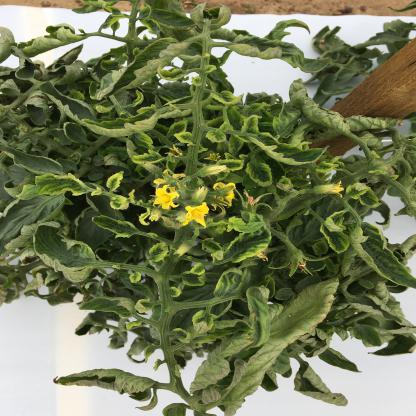tomato leaf yellow virus: (31, 215, 102, 290), (56, 96, 185, 136), (238, 115, 330, 169), (4, 167, 97, 214), (214, 210, 278, 266), (207, 252, 274, 300), (318, 209, 359, 259), (243, 157, 280, 187)
